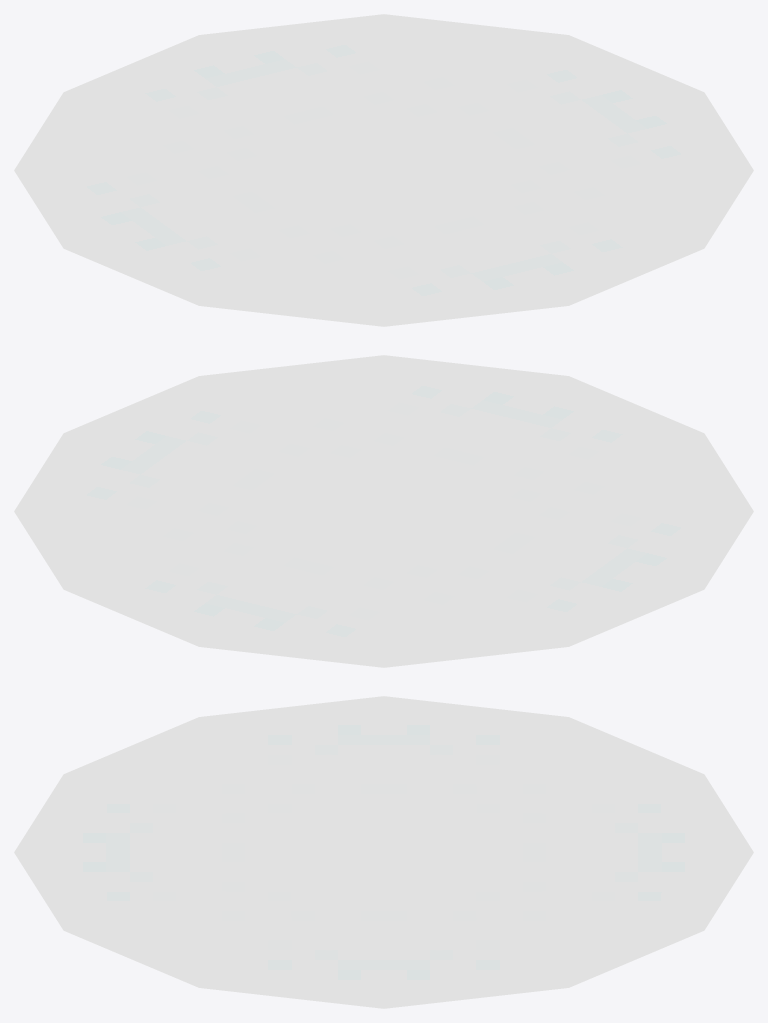
Rendered from shadow.dae.
3 renders of one model, top to bottom at view 1: azimuth 30°, elevation 25°; view 2: azimuth 150°, elevation 25°; view 3: azimuth 270°, elevation 25°, orthographic.
Parts seen in each view (by area): view 1: 円; view 2: 円; view 3: 円.
Part boxes in pixels (left/top/right/bottom): 円: left=14, top=14, right=753, bottom=326; 円: left=14, top=355, right=753, bottom=667; 円: left=14, top=696, right=753, bottom=1008.
Size of the model in its own units: 2 by 0 by 2.
Materials: 1 (1 with a texture image).
